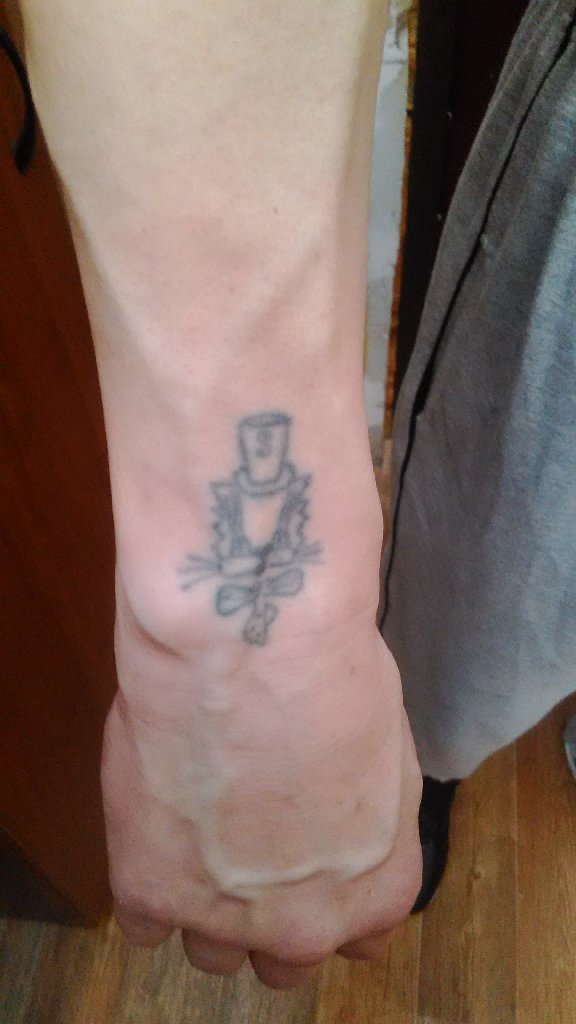tatu8_kot: (168, 391, 338, 652)
